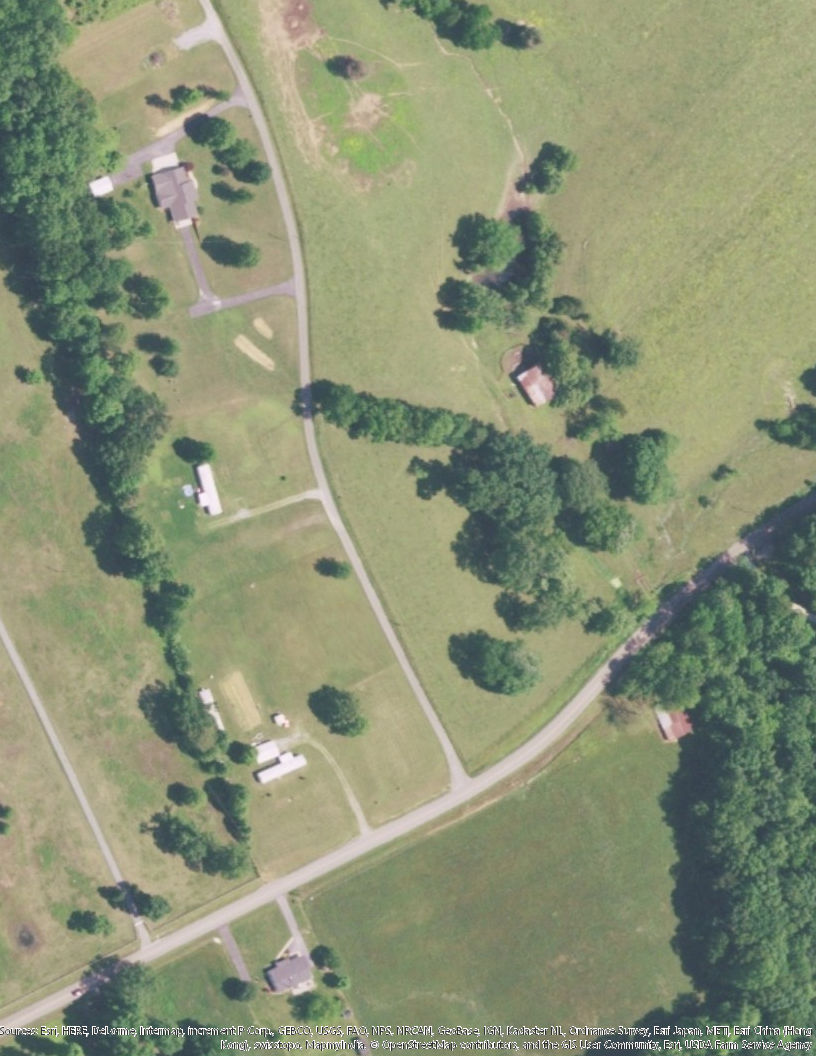cafo: (249, 736, 314, 786), (191, 461, 228, 521)
